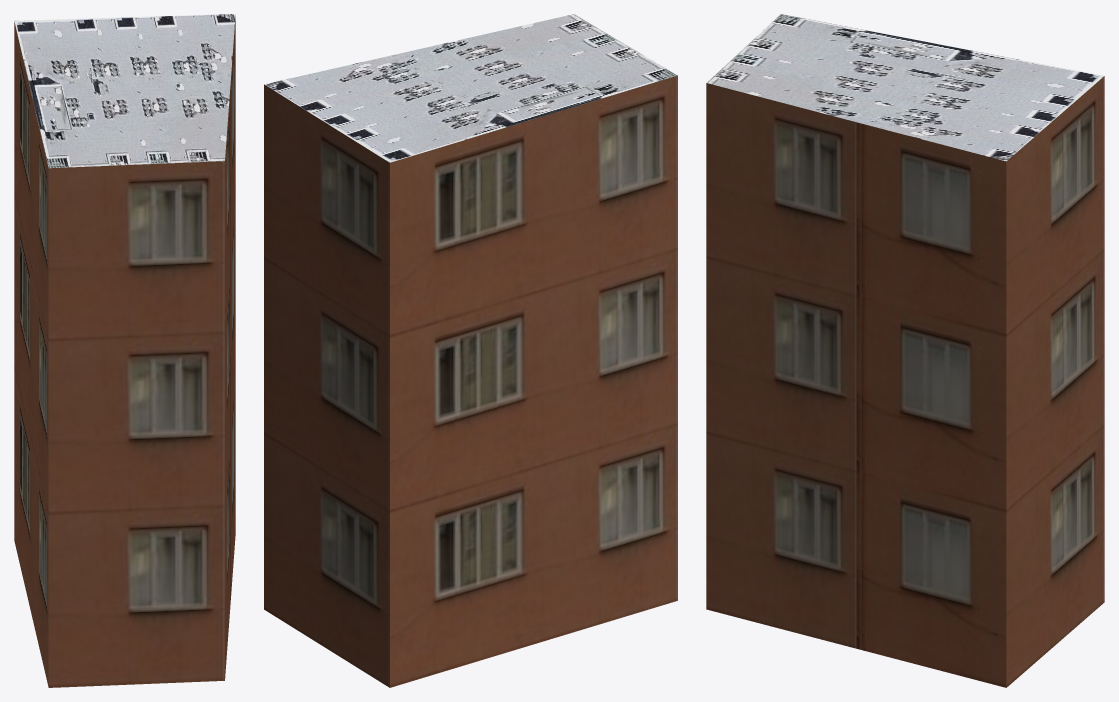
File: ResTex__3025.fbx
3 renders of one model, left to right at view 1: azimuth 30°, elevation 25°; view 2: azimuth 150°, elevation 25°; view 3: azimuth 270°, elevation 25°, orthographic.
Parts seen in each view (by area): view 1: CityEngineMaterial_20_m, CityEngineMaterial_m; view 2: CityEngineMaterial_20_m, CityEngineMaterial_m; view 3: CityEngineMaterial_20_m, CityEngineMaterial_m.
Boxes of the visible parts, <box> form: CityEngineMaterial_20_m: <box>14,16,235,687</box>; CityEngineMaterial_m: <box>14,14,235,168</box>; CityEngineMaterial_20_m: <box>264,75,677,687</box>; CityEngineMaterial_m: <box>264,14,677,162</box>; CityEngineMaterial_20_m: <box>706,76,1104,687</box>; CityEngineMaterial_m: <box>707,14,1103,161</box>.
Bounding box in the file's own units: 5.41 × 9 × 6.17.
2 materials, 2 textured.
